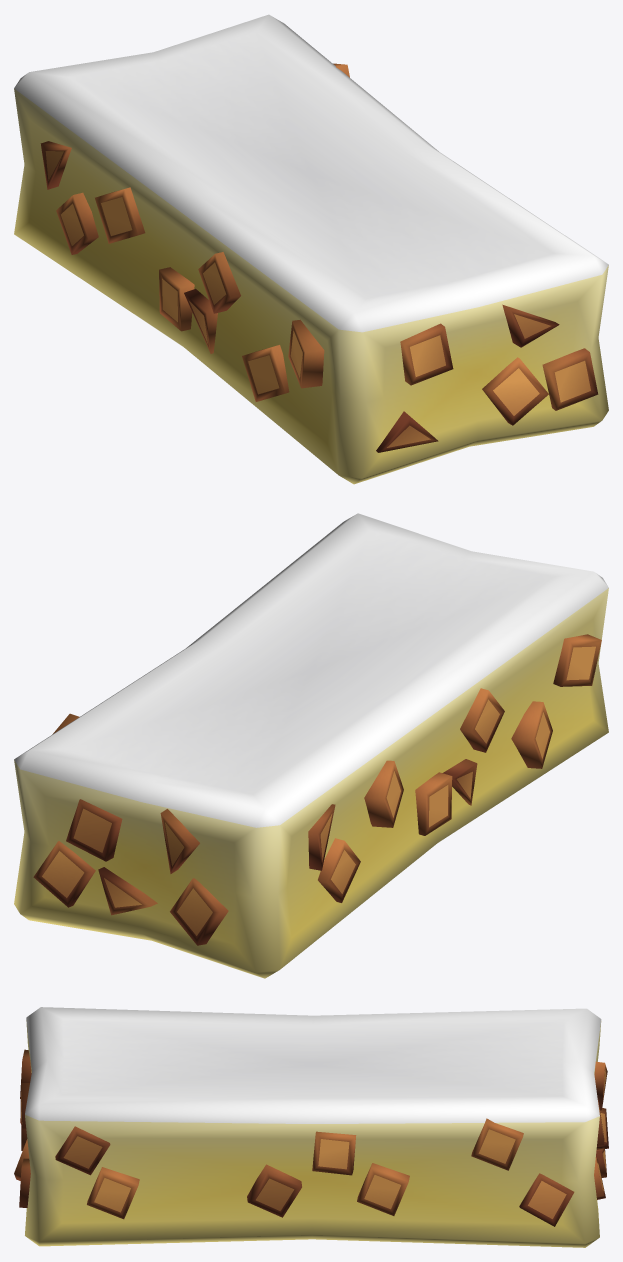
File: m_WhiteNougat01.fbx
3 views of the same model, one above another, from view 1: azimuth 30°, elevation 25°; view 2: azimuth 150°, elevation 25°; view 3: azimuth 270°, elevation 25° (orthographic). The views are drawn at different scales.
Parts seen in each view (by area): view 1: m_WhiteNougat01; view 2: m_WhiteNougat01; view 3: m_WhiteNougat01.
Part boxes in pixels (x1=…): m_WhiteNougat01: x1=14, y1=14, x2=608, y2=484; m_WhiteNougat01: x1=14, y1=513, x2=608, y2=978; m_WhiteNougat01: x1=14, y1=1007, x2=608, y2=1247.
Size of the model in its own units: 5.36 by 2.98 by 11.28.
